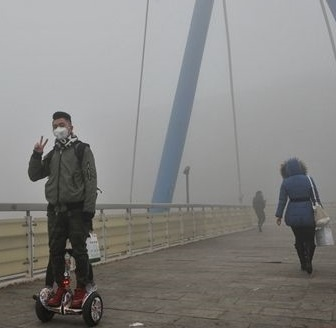person: (27, 110, 105, 313), (274, 158, 331, 275), (250, 187, 271, 233)
